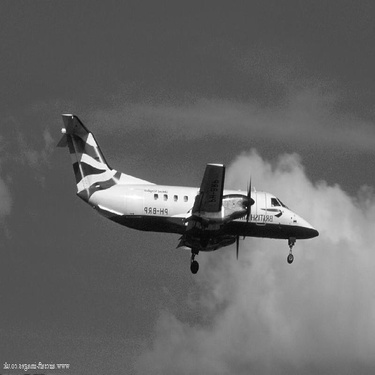airplane: (39, 94, 320, 282)
